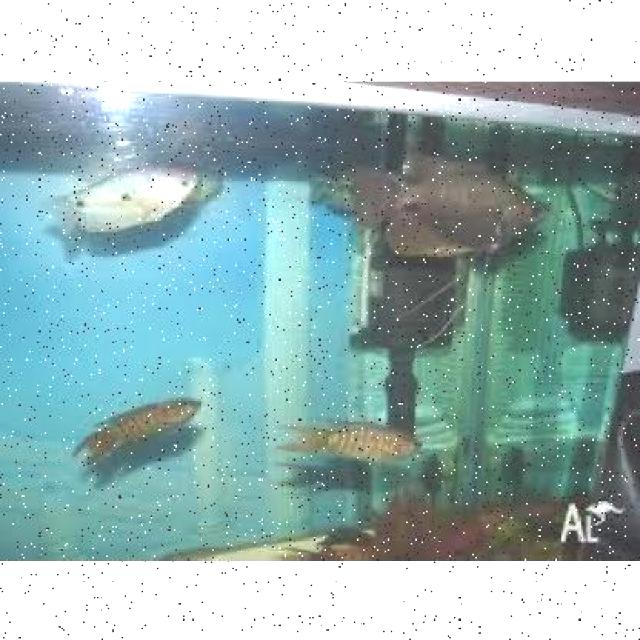gurame: (342, 147, 560, 266), (51, 143, 204, 244)
